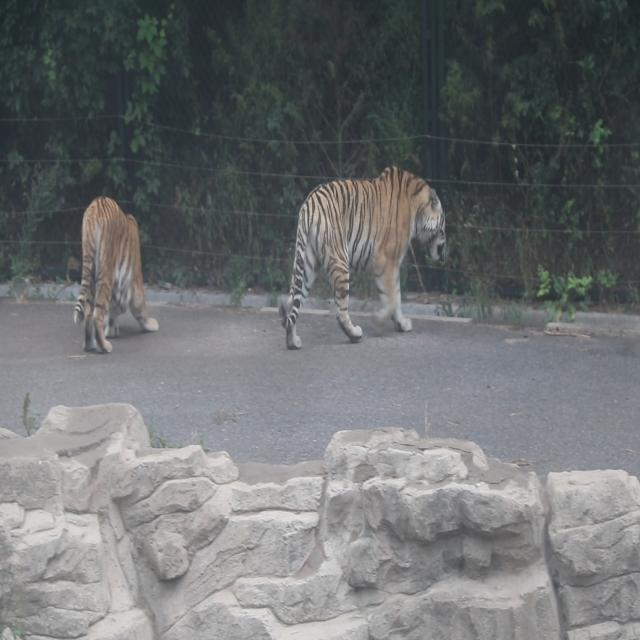Tiger: (276, 135, 457, 350), (69, 180, 169, 356)
